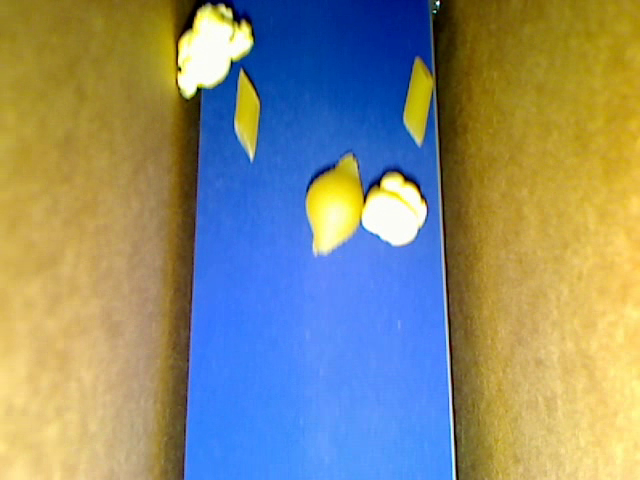penne: (402, 56, 432, 148), (234, 65, 260, 163)
shell: (305, 150, 364, 257)
